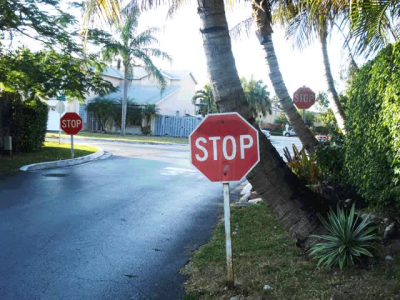stop: (194, 121, 256, 176), (294, 89, 315, 108), (61, 115, 82, 133)
